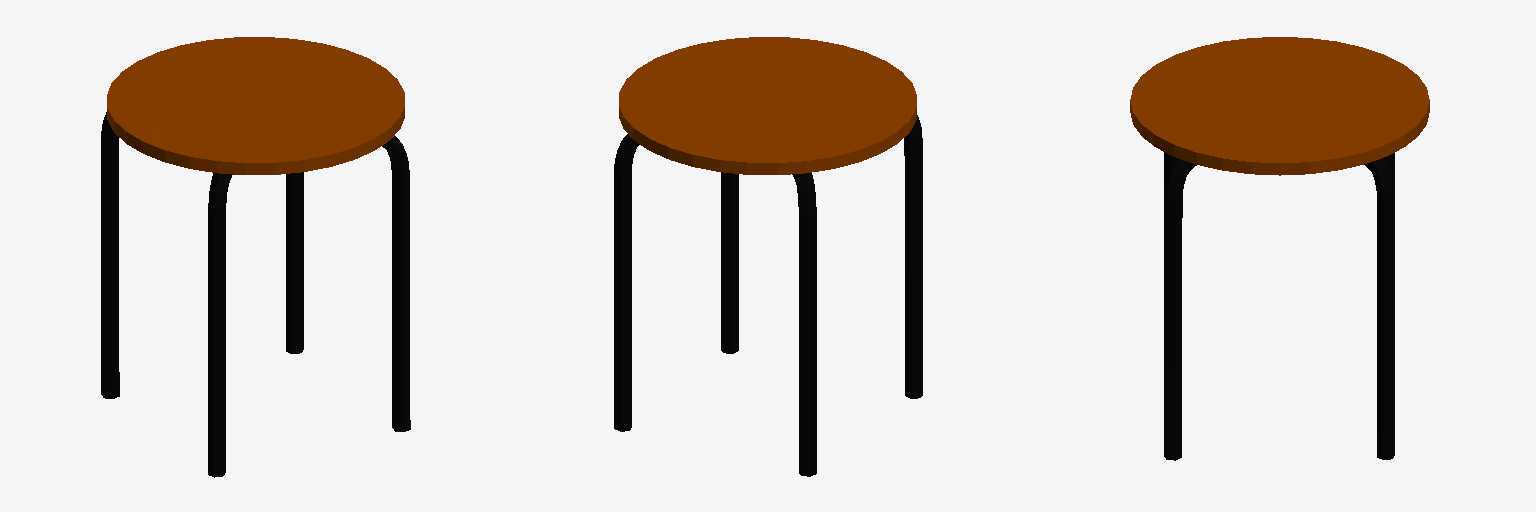
3 views of the same model, side by side, from view 1: azimuth 30°, elevation 25°; view 2: azimuth 150°, elevation 25°; view 3: azimuth 270°, elevation 25° (orthographic).
Parts seen in each view (by area): view 1: Assise_1, Tube_1_3, Tube_2; view 2: Assise_1, Tube_2, Tube_1_3; view 3: Assise_1, Tube_2, Tube_1_3.
Part boxes in pixels (x1,y1,x2,y2): Assise_1: (107, 37, 404, 174); Tube_1_3: (101, 112, 410, 431); Tube_2: (208, 172, 303, 477); Assise_1: (619, 37, 916, 174); Tube_2: (614, 115, 922, 431); Tube_1_3: (721, 172, 816, 476); Assise_1: (1130, 37, 1429, 175); Tube_2: (1164, 152, 1394, 459); Tube_1_3: (1164, 153, 1394, 460).
Bounding box in the file's own units: 0.4 × 0.4596 × 0.4.